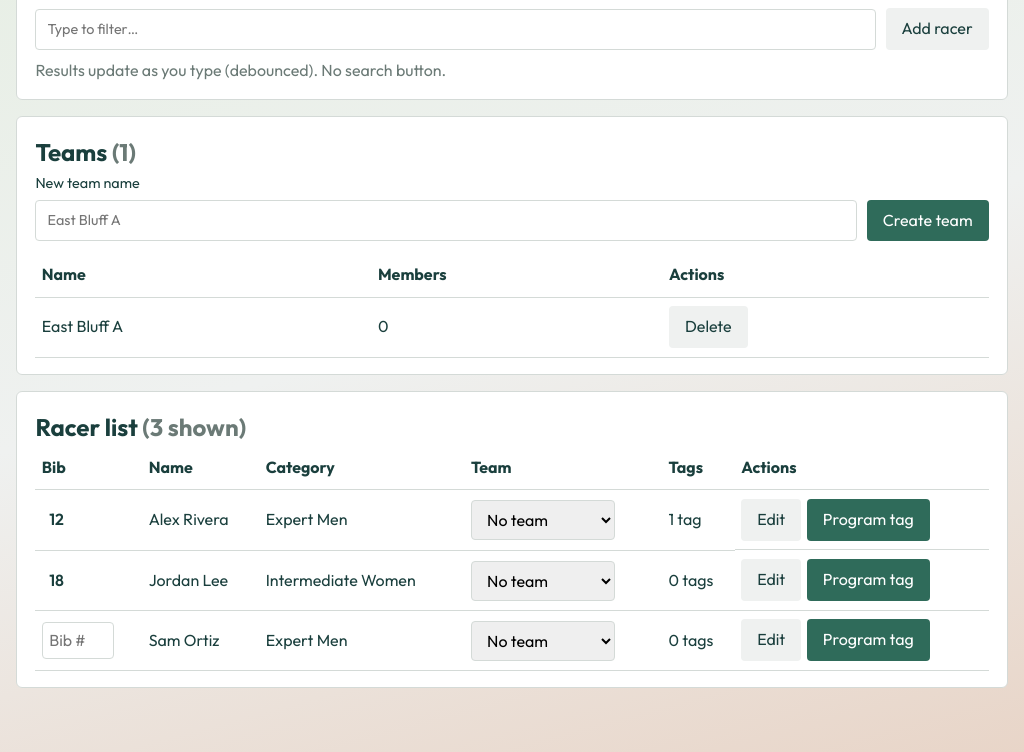
Test: Racers.vue › unassigns bib when edit input is cleared and saved
(page scrolled)
Click the button with test id "bib-edit" showing "12" at (57, 520), box [42,502,71,538]
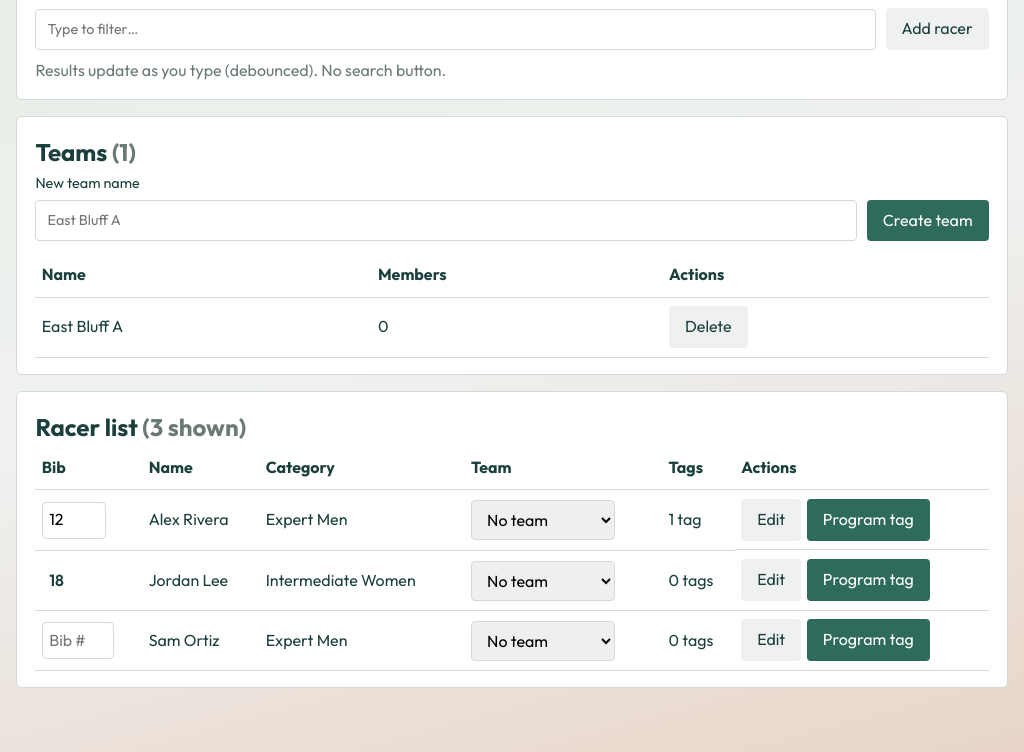
Clear the field with test id "bib-edit-input" at (74, 520), box [42,502,106,539]
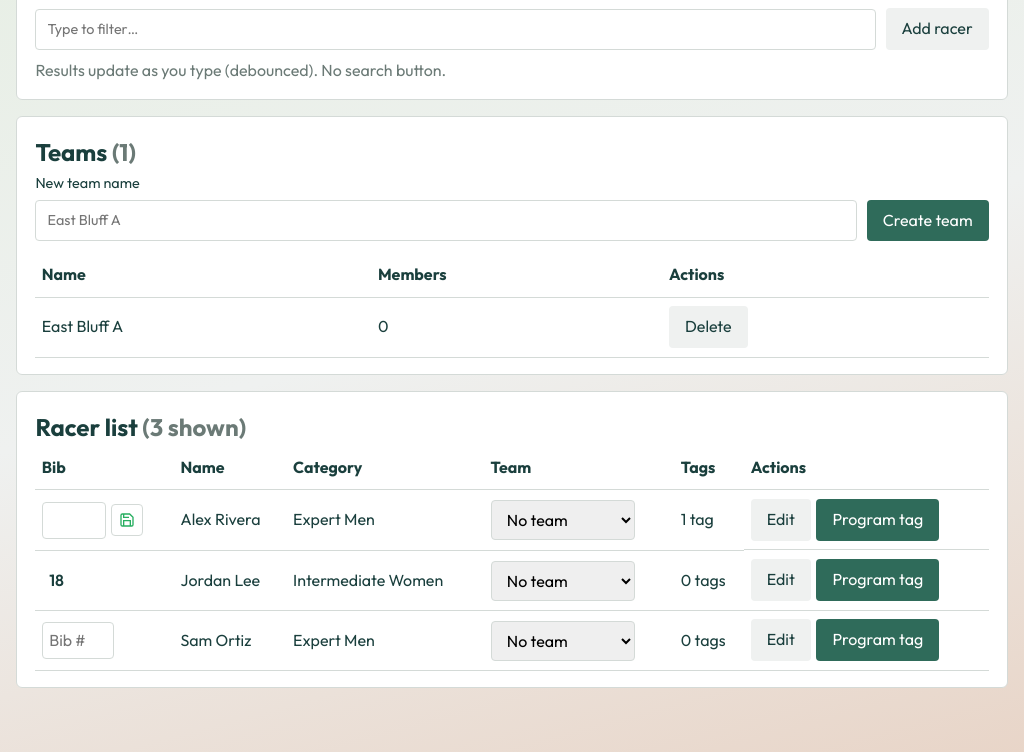
Expected: the button with test id "bib-save" is shown
Click the button with test id "bib-save" at (127, 520), box [111,504,143,536]
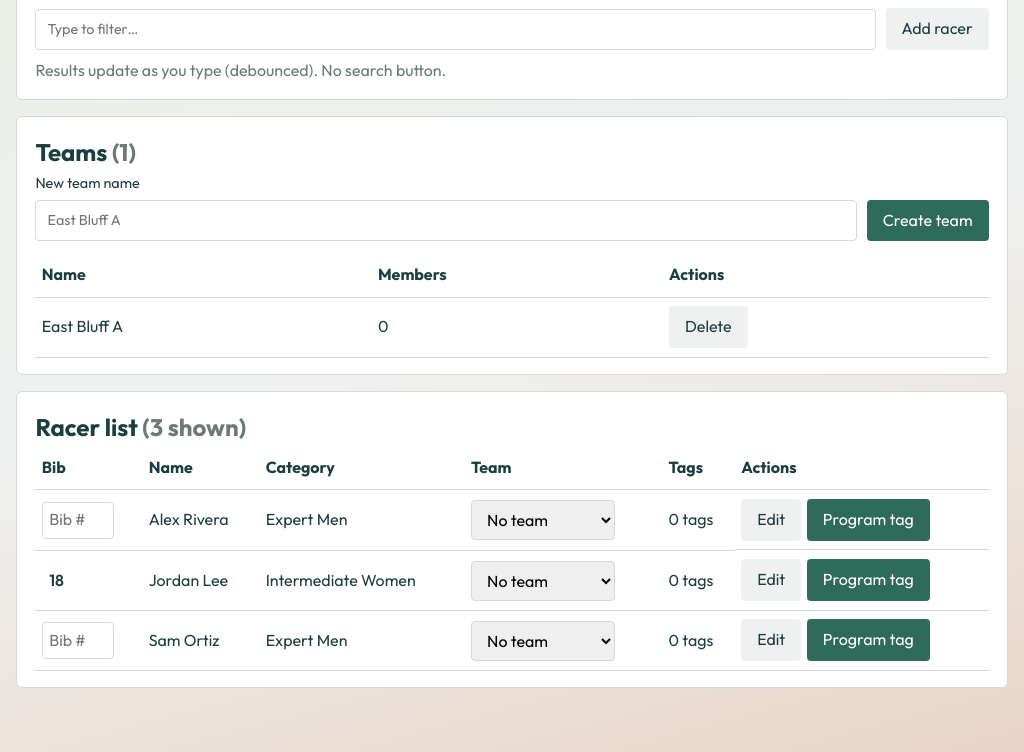
Expected: the field with test id "bib-assign-input" next to "Alex Rivera" is shown, [42,502,114,539]
